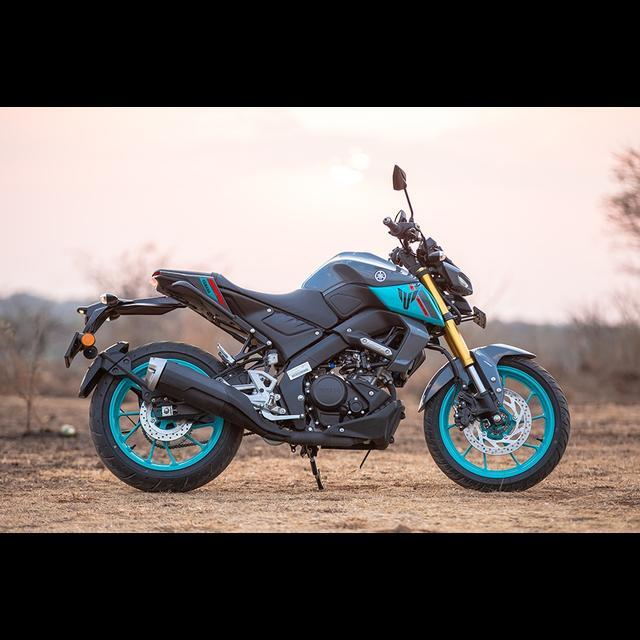motorcycle: (61, 157, 574, 498)
